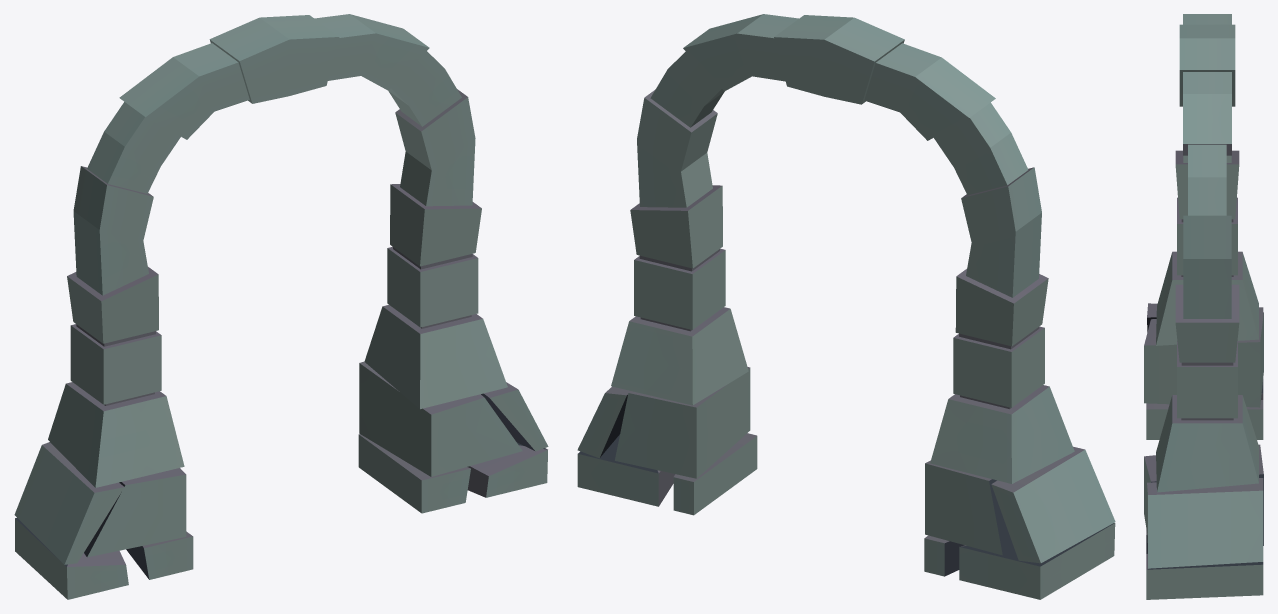
The model's file is prohod.fbx.
The picture shows the model from 3 angles, left to right: view 1: azimuth 30°, elevation 25°; view 2: azimuth 150°, elevation 25°; view 3: azimuth 270°, elevation 25°; orthographic projection. The views are drawn at different scales.
Visible parts, largest first — view 1: Cube.037; view 2: Cube.037; view 3: Cube.037.
Boxes of the visible parts, left/top/right/bottom form: Cube.037: left=14, top=14, right=548, bottom=599; Cube.037: left=577, top=14, right=1115, bottom=599; Cube.037: left=1144, top=14, right=1263, bottom=599.
Bounding box in the file's own units: 556 × 536 × 129.
